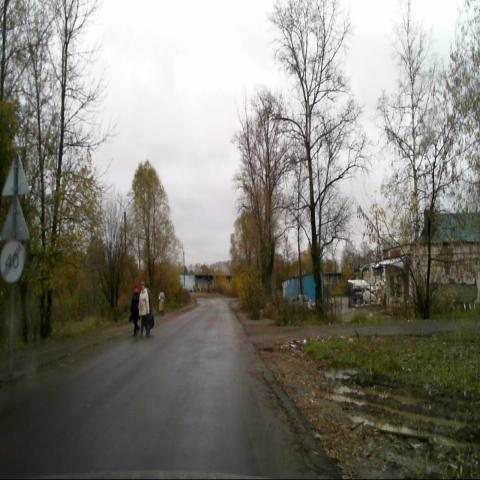3_25: (0, 239, 25, 283)
